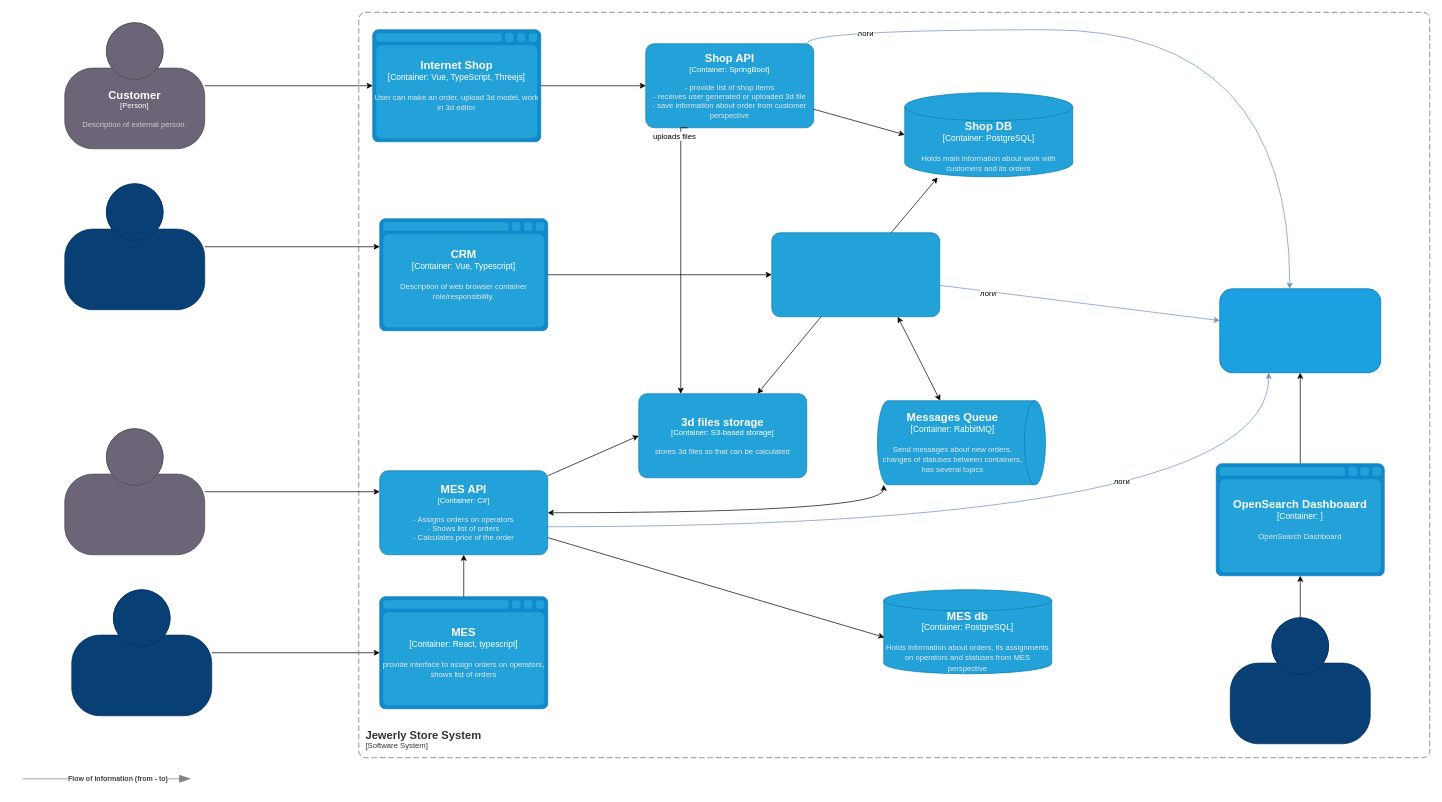
The diagram is 1442 pixels wide and 802 high, and some of its shapes have lost their labels. Here are the shapes that lost their labels. From the top down, the centre of each, then its label:
At point 134,246: "Seller [Person] Operates with order, confirms manufacturing for the user".
At point 855,274: "CRM API [Container: SpringBoot] Description of container role/responsibility.".
At point 1300,330: "OpenSearch Cluster".
At point 134,491: "API user [Person] Description of external person.".
At point 141,652: "Operator [Person] Takes order in work, manufactures jewerly".
At point 1300,680: "Administrator [Person] Monitors system operation".
